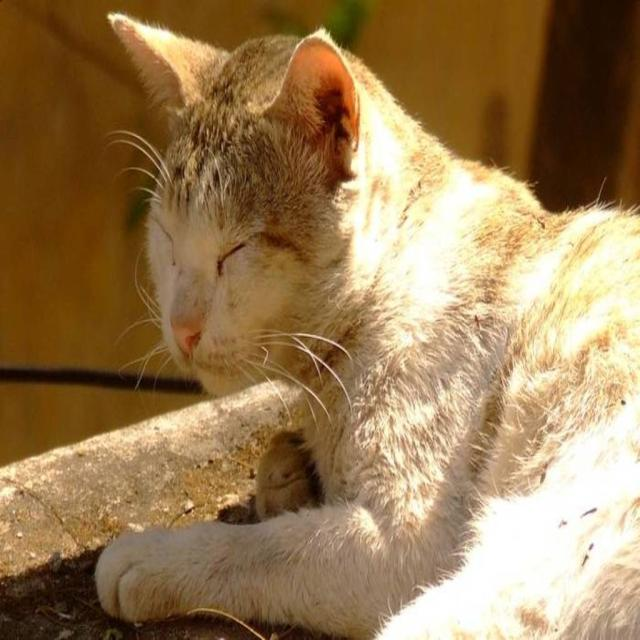Cat: (96, 5, 638, 638)
